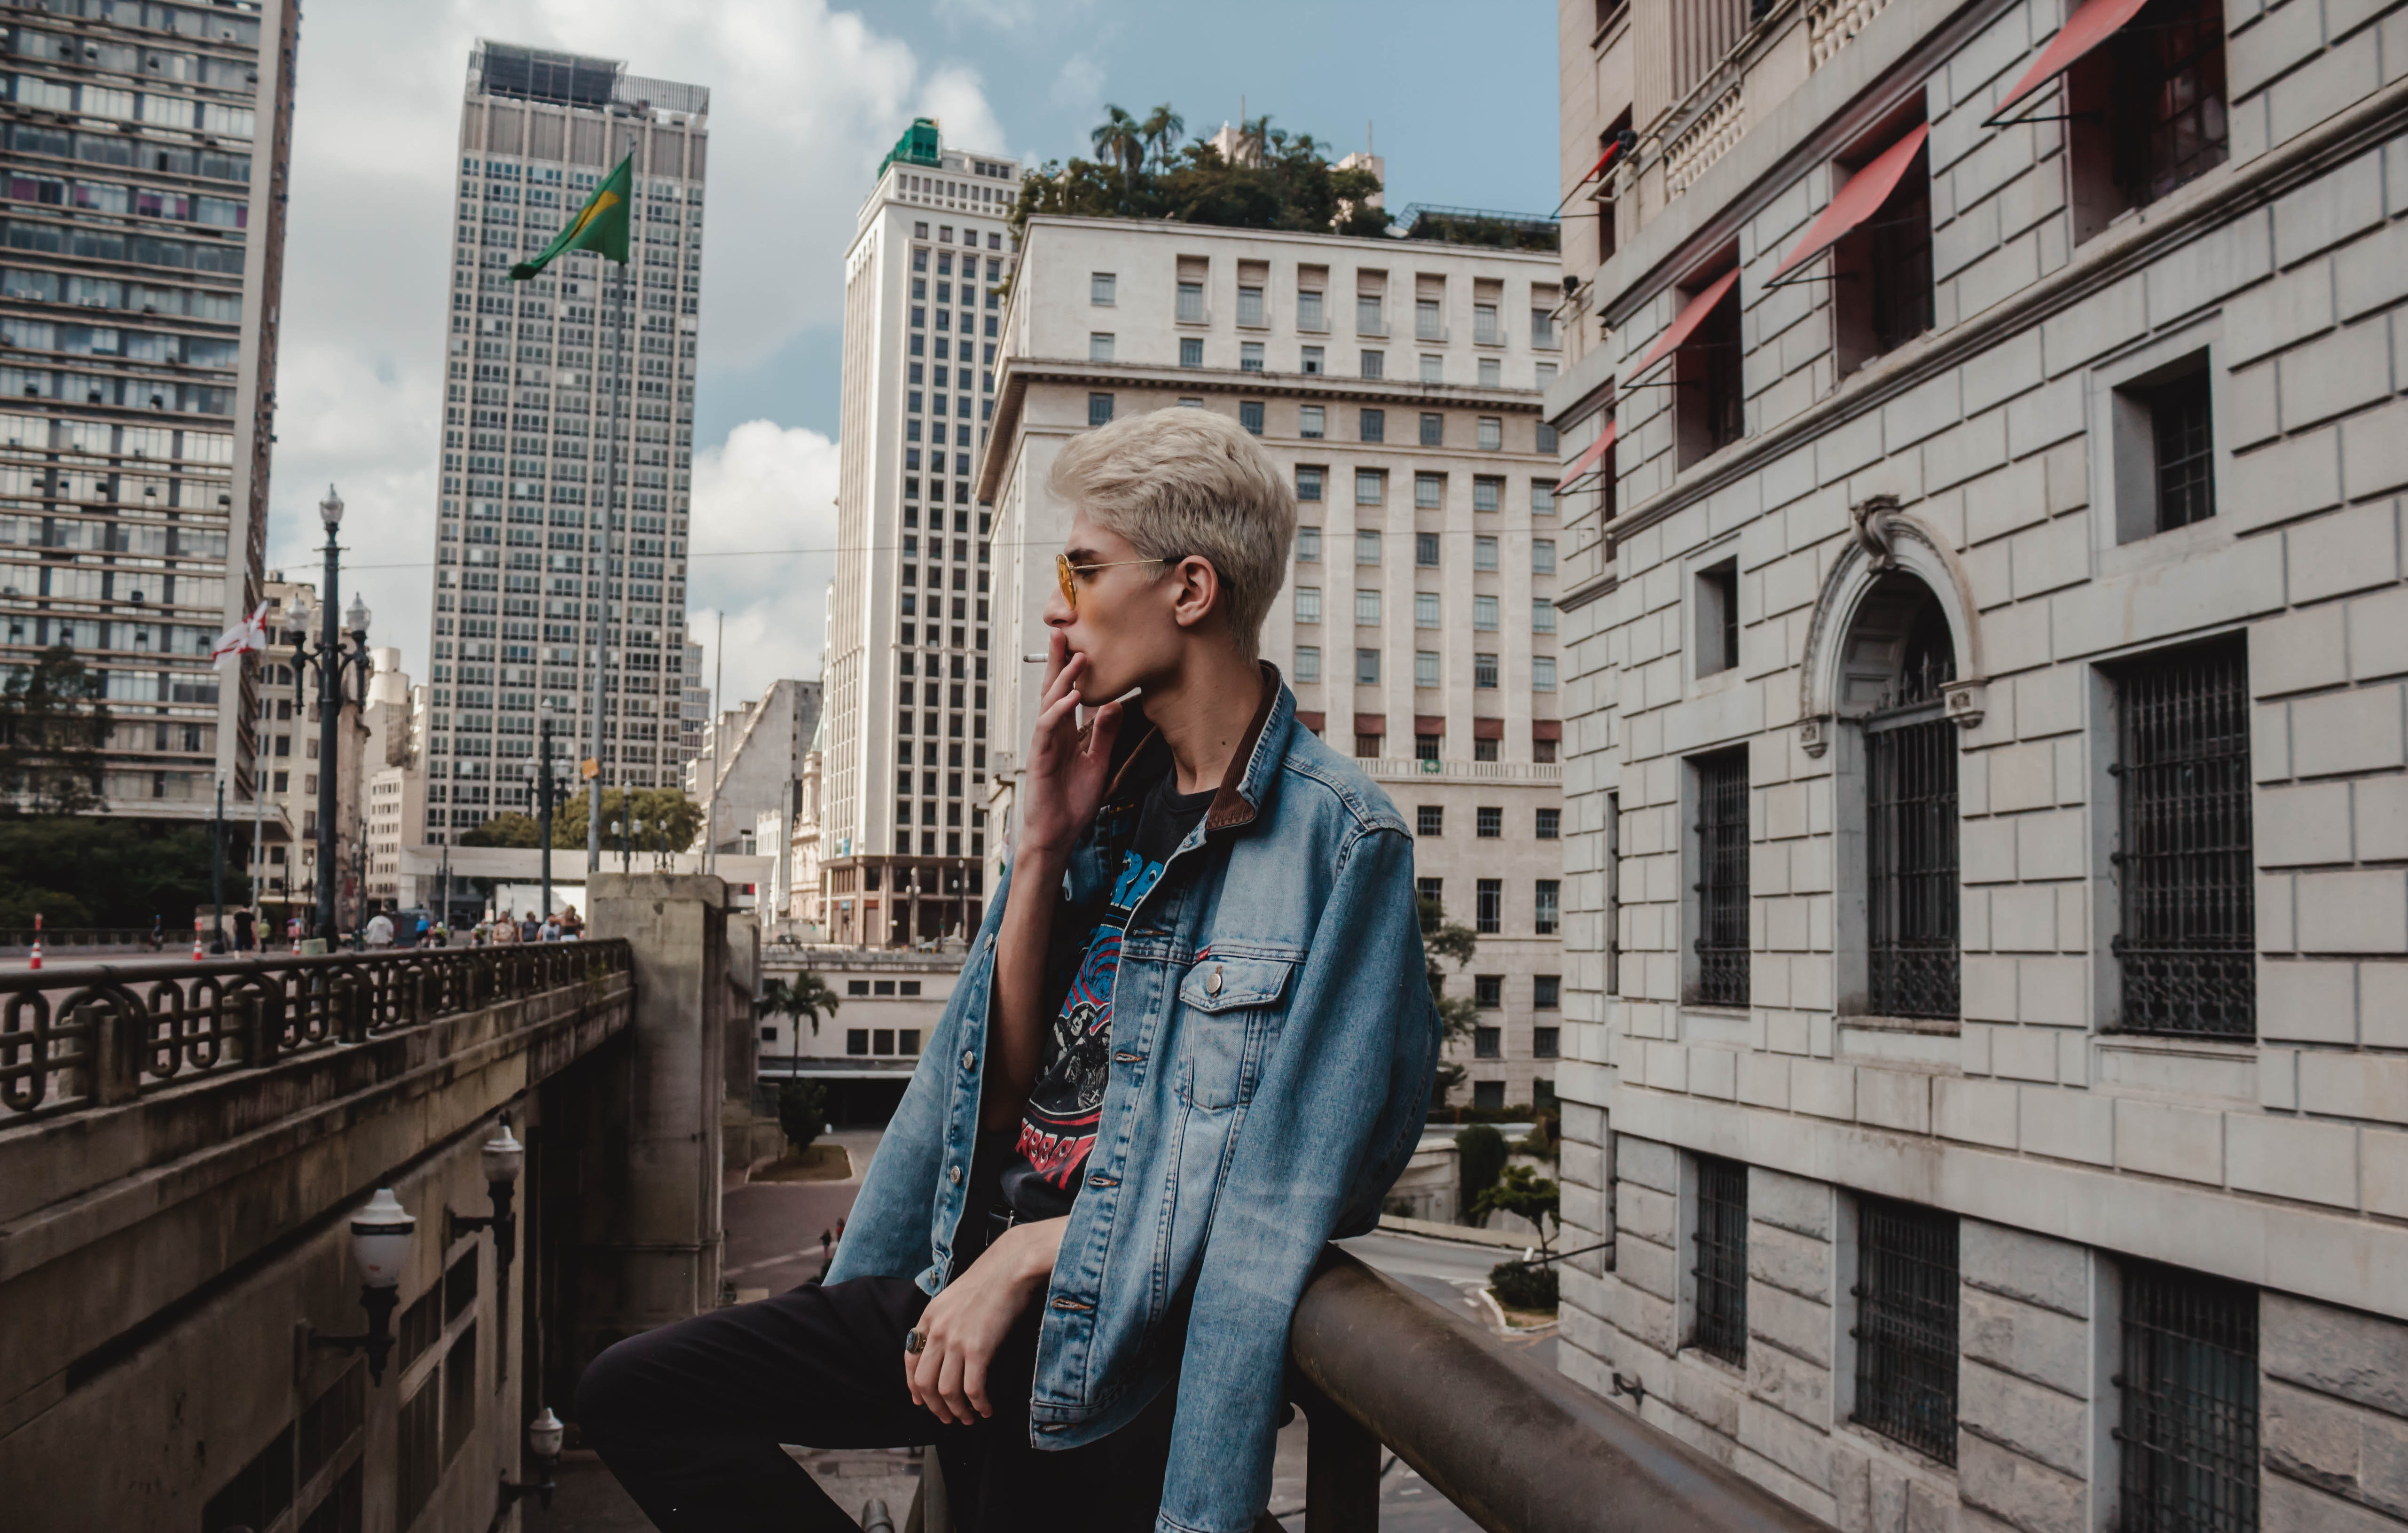cigarette: (1021, 652, 1050, 663)
